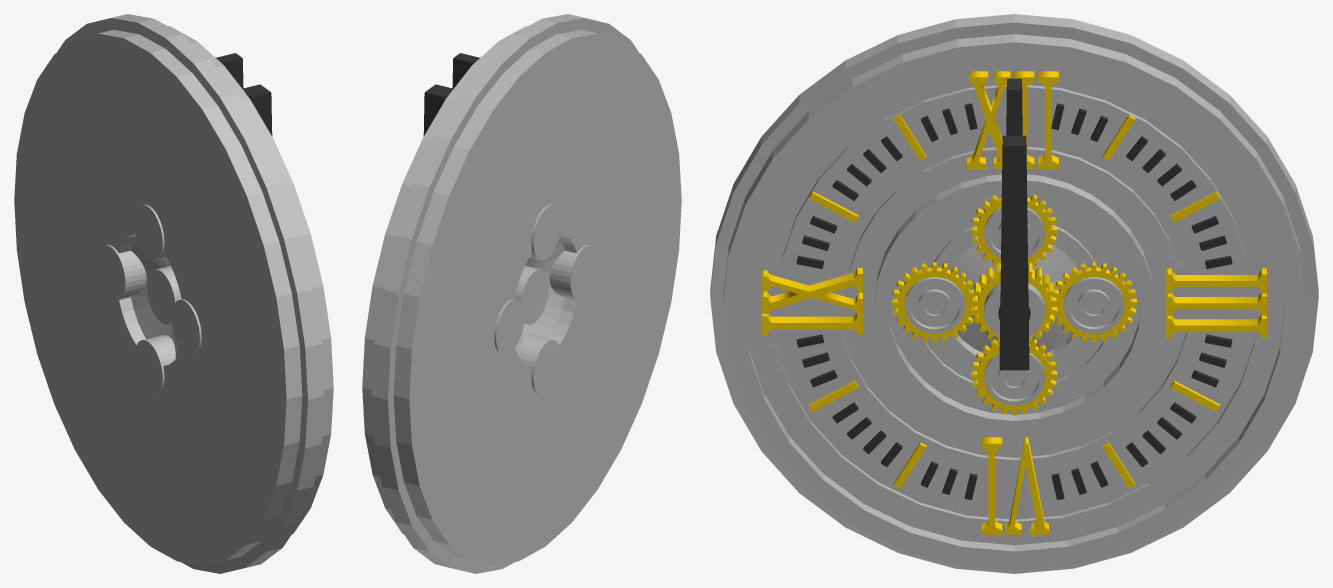
Rendered from Clock_highpoly_02.fbx.
The picture shows the model from 3 angles, left to right: view 1: azimuth 30°, elevation 25°; view 2: azimuth 150°, elevation 25°; view 3: azimuth 270°, elevation 25°; orthographic projection. The views are drawn at different scales.
Parts seen in each view (by area): view 1: Clock_face, Hour_line, Minute_line; view 2: Clock_face, Hour_line, Minute_line; view 3: Clock_face, Clock_numbers, Clock_seconds, Hour_line, Gear.001, Gear.003, Gear, Gear.002, Gear.004, Minute_line.
Boxes of the visible parts, bbox=[...] form: Clock_face: bbox=[14, 14, 333, 573]; Hour_line: bbox=[243, 84, 272, 136]; Minute_line: bbox=[216, 53, 243, 89]; Clock_face: bbox=[362, 14, 681, 573]; Hour_line: bbox=[423, 84, 452, 136]; Minute_line: bbox=[452, 53, 479, 89]; Clock_face: bbox=[710, 14, 1318, 573]; Clock_numbers: bbox=[762, 71, 1266, 535]; Clock_seconds: bbox=[796, 103, 1232, 499]; Hour_line: bbox=[999, 135, 1029, 370]; Gear.001: bbox=[1051, 262, 1136, 343]; Gear.003: bbox=[892, 262, 977, 343]; Gear: bbox=[971, 262, 1057, 343]; Gear.002: bbox=[971, 339, 1057, 415]; Gear.004: bbox=[971, 193, 1057, 266]; Minute_line: bbox=[1006, 78, 1022, 135].
Bounding box in the file's own units: 50.83 × 209 × 209.
